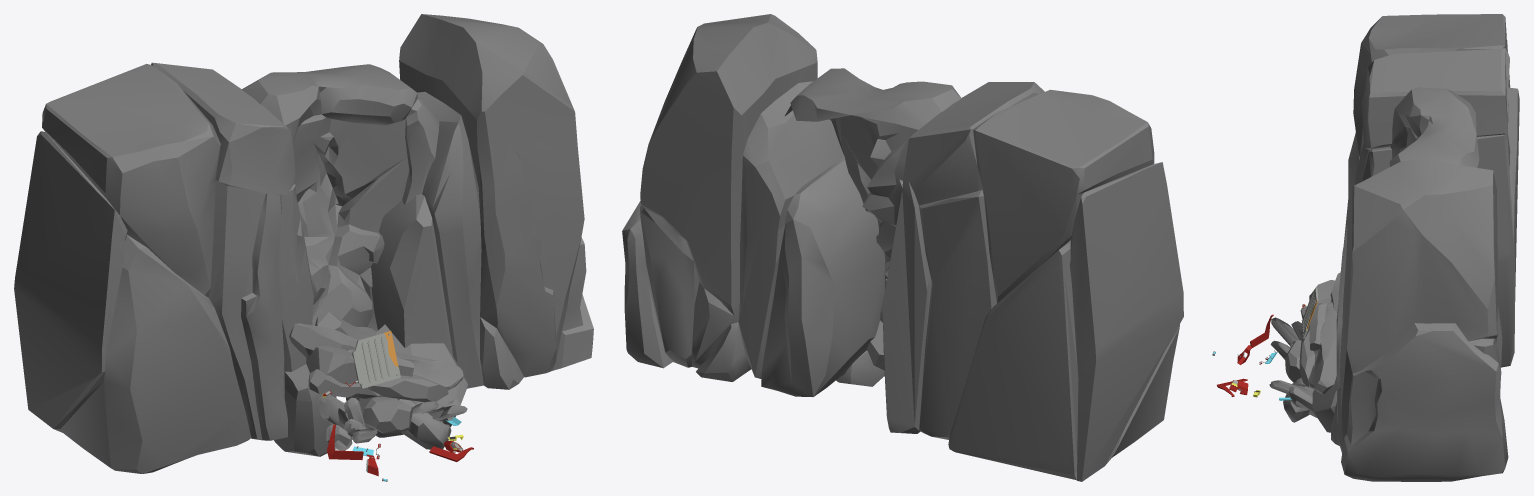
File: SM_Slippy_Cave.fbx
3 renders of one model, left to right at view 1: azimuth 30°, elevation 25°; view 2: azimuth 150°, elevation 25°; view 3: azimuth 270°, elevation 25°, orthographic. The views are drawn at different scales.
Visible parts, largest first — view 1: Cave_And_Cliff (×13), Slippy_Vehicle (×2); view 2: Cave_And_Cliff (×4); view 3: Cave_And_Cliff (×10).
Boxes of the visible parts, left/top/right/bottom form: Cave_And_Cliff (×13): left=14, top=14, right=593, bottom=473; Slippy_Vehicle (×2): left=345, top=330, right=400, bottom=388; Cave_And_Cliff (×4): left=622, top=14, right=1183, bottom=481; Cave_And_Cliff (×10): left=1271, top=14, right=1519, bottom=481.
Size of the model in its own units: 901 by 614 by 552.
